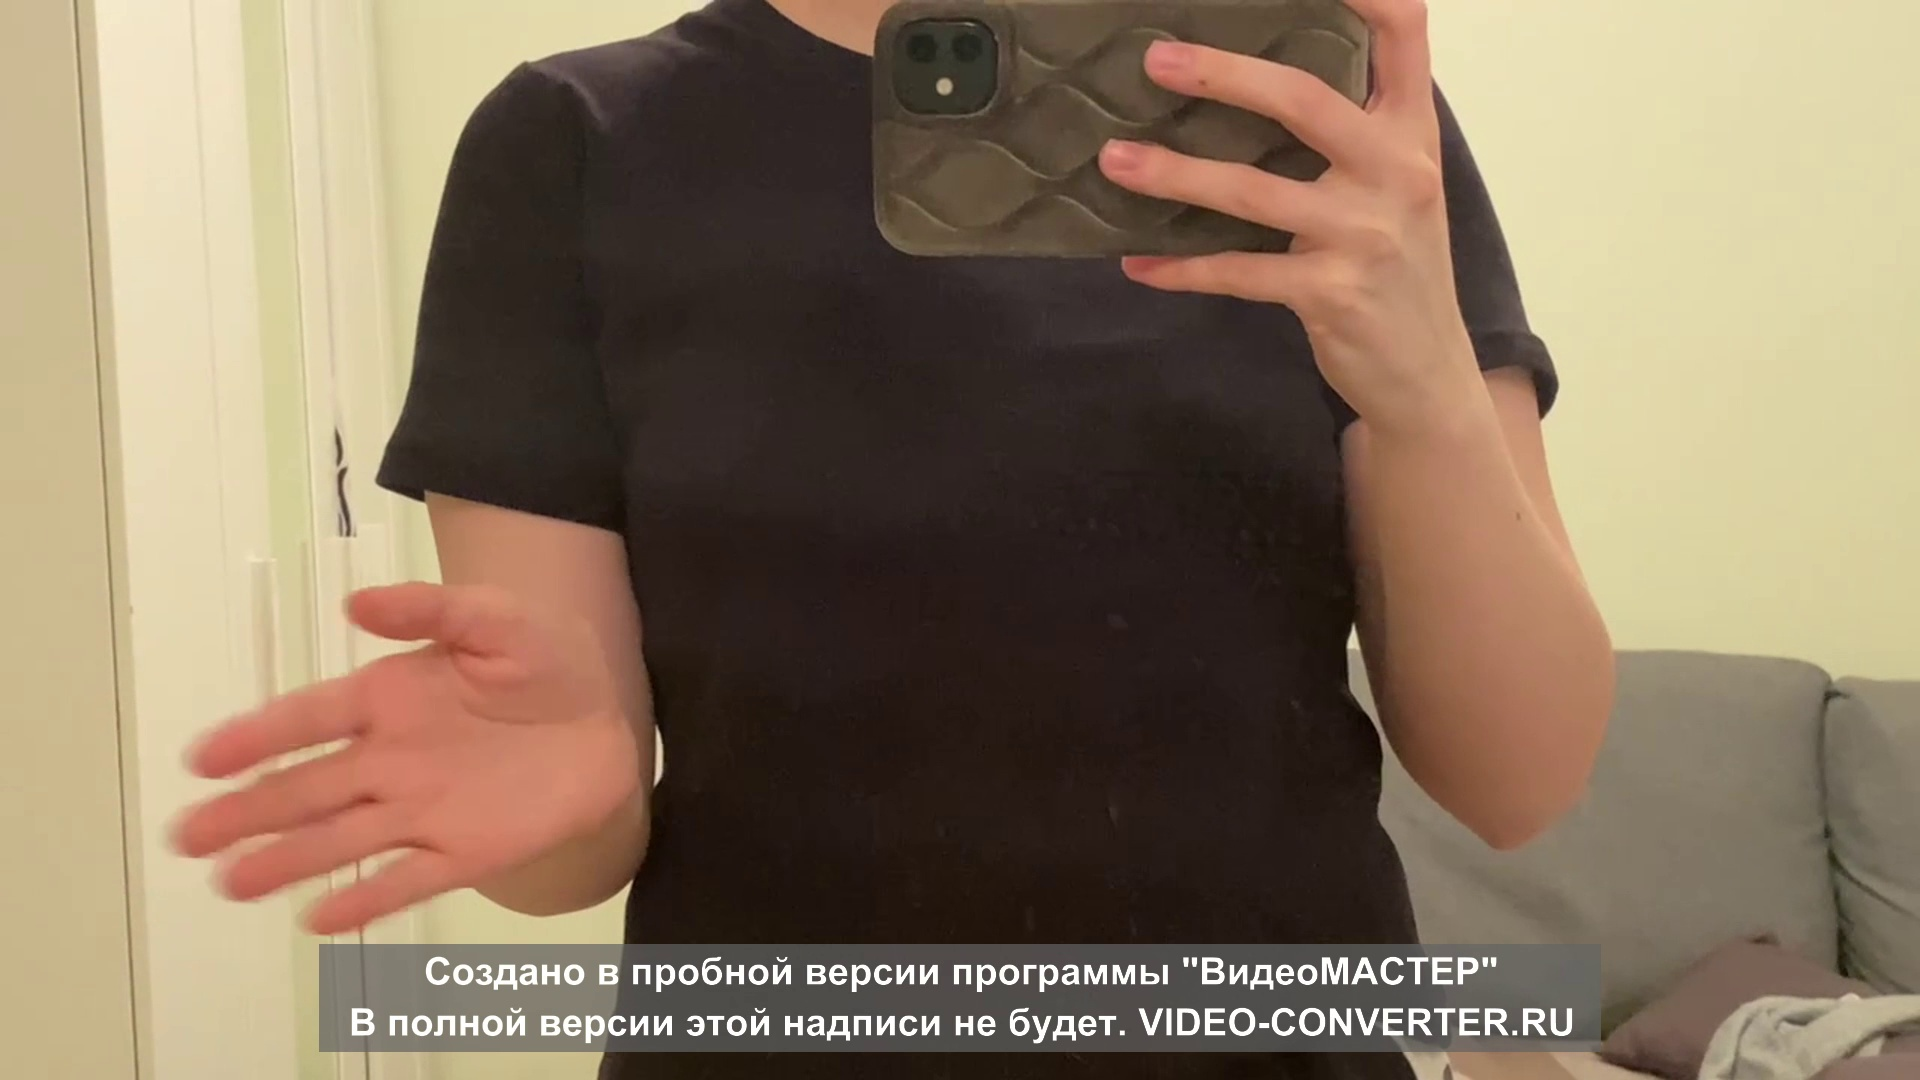Ладонь: (166, 580, 637, 930)
